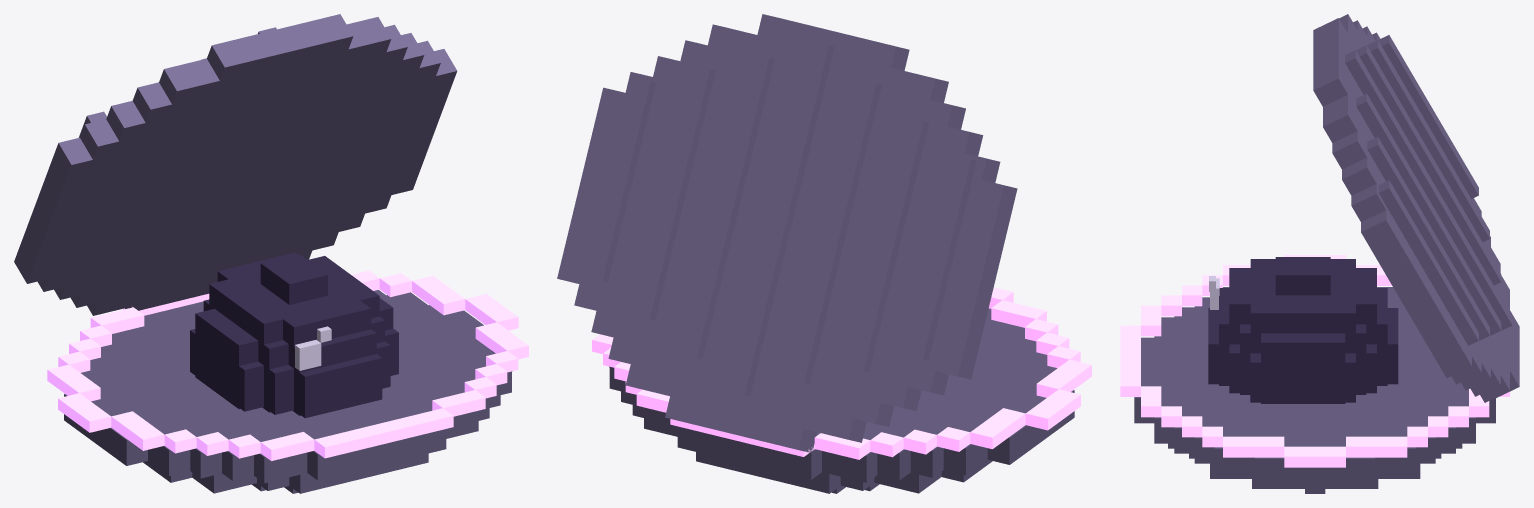
3 renders of one model, left to right at view 1: azimuth 30°, elevation 25°; view 2: azimuth 150°, elevation 25°; view 3: azimuth 270°, elevation 25°, orthographic. The views are drawn at different scales.
Visible parts, largest first — view 1: R042_Accent, R042_Main, R042_Gem, R042_Glow, R042_Trim; view 2: R042_Accent, R042_Main, R042_Glow; view 3: R042_Accent, R042_Main, R042_Gem, R042_Glow.
Part boxes in pixels (x1,y1,x2,y2): R042_Accent: (14, 14, 457, 315); R042_Main: (64, 290, 512, 493); R042_Gem: (190, 252, 398, 418); R042_Glow: (47, 270, 528, 460); R042_Trim: (295, 326, 331, 370); R042_Accent: (557, 14, 1017, 452); R042_Main: (609, 308, 1074, 493); R042_Glow: (592, 287, 1091, 459); R042_Accent: (1313, 14, 1519, 402); R042_Main: (1134, 287, 1495, 493); R042_Gem: (1208, 257, 1398, 403); R042_Glow: (1120, 255, 1509, 467).
Size of the model in its own units: 2 by 1.83 by 1.67.
